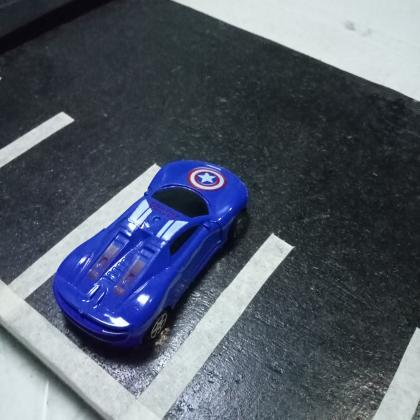Car: (53, 157, 252, 348)
